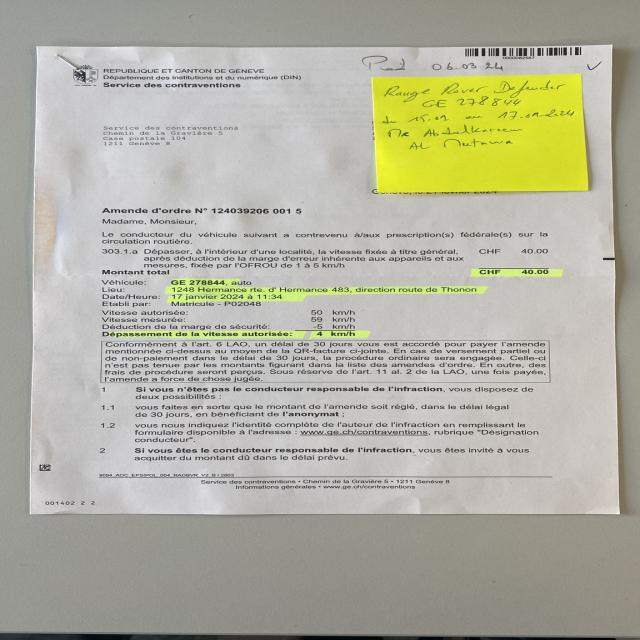paper-document-: (33, 46, 619, 514)
